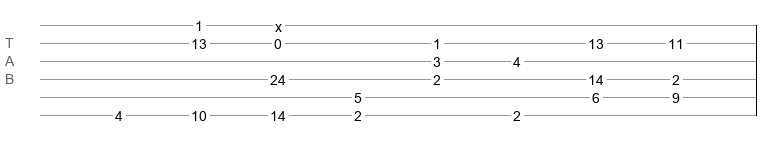0: (274, 36, 282, 46)
1: (195, 18, 203, 28), (433, 36, 441, 46)
10: (191, 108, 207, 118)
11: (668, 36, 684, 46)
13: (191, 36, 207, 46), (588, 36, 604, 46)
14: (270, 108, 286, 118), (588, 72, 604, 82)
2: (354, 108, 362, 118), (433, 72, 441, 82), (513, 108, 521, 118), (672, 72, 680, 82)
24: (270, 72, 286, 82)
3: (433, 54, 441, 64)
4: (115, 108, 123, 118), (513, 54, 521, 64)
5: (354, 90, 362, 100)
6: (592, 90, 600, 100)
9: (672, 90, 680, 100)
x: (275, 19, 282, 27)
